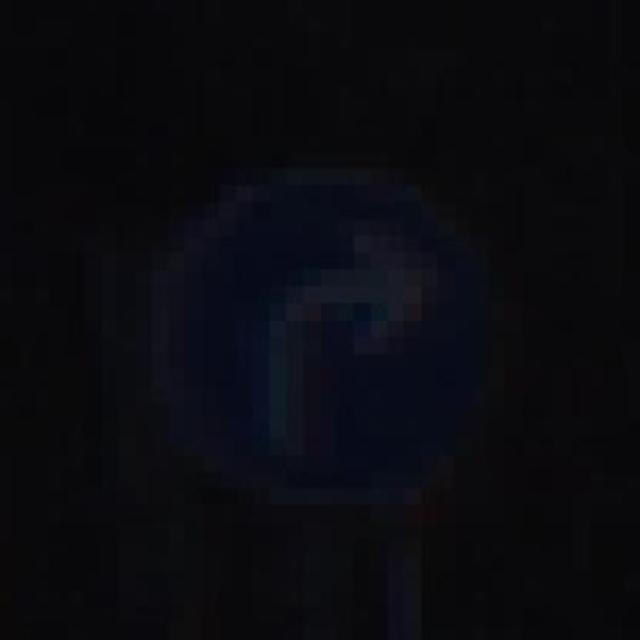Turn right ahead: (145, 141, 549, 545)
